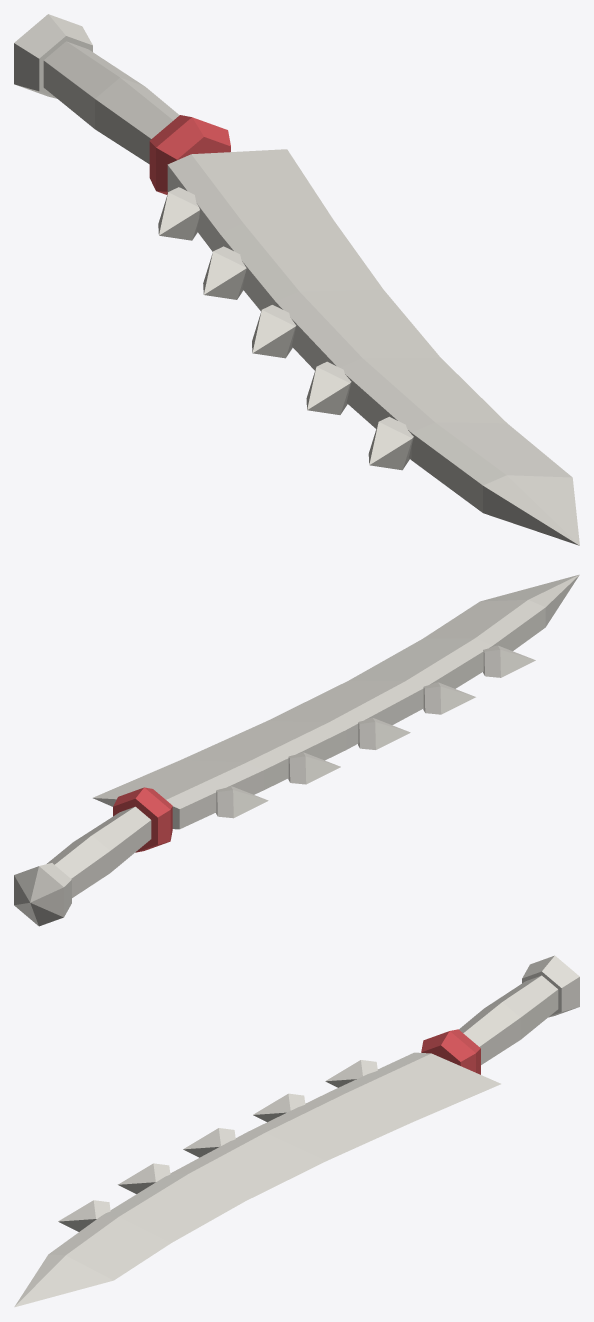
File: wyrmtooth.glb
3 views of the same model, one above another, from view 1: azimuth 30°, elevation 25°; view 2: azimuth 150°, elevation 25°; view 3: azimuth 330°, elevation 25° (orthographic). The views are drawn at different scales.
Parts seen in each view (by area): view 1: wyrmtooth; view 2: wyrmtooth; view 3: wyrmtooth.
Part boxes in pixels (x1,y1,x2,y2): wyrmtooth: (14,14,579,545); wyrmtooth: (14,574,579,926); wyrmtooth: (14,955,579,1307).
Bounding box in the file's own units: 0.2526 × 0.08 × 1.08.
